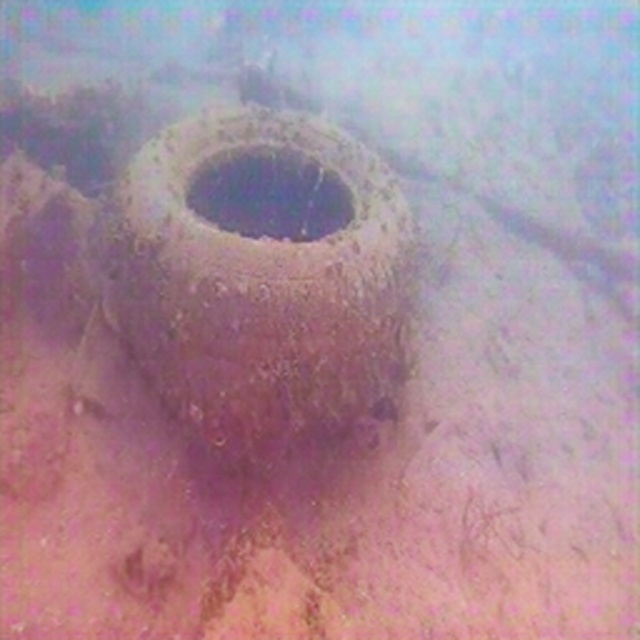mine: (116, 107, 415, 438)
